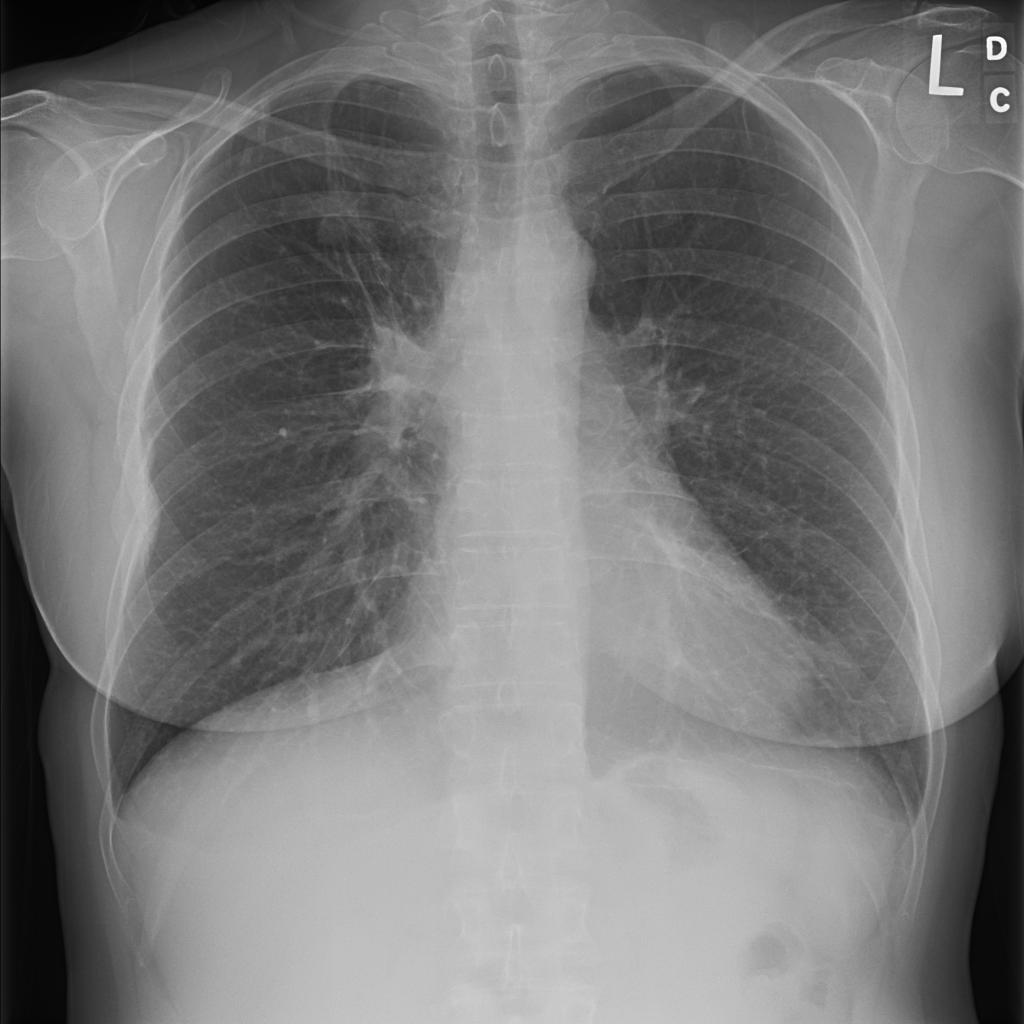Nodule: (177, 98, 229, 131), (382, 48, 422, 77)
